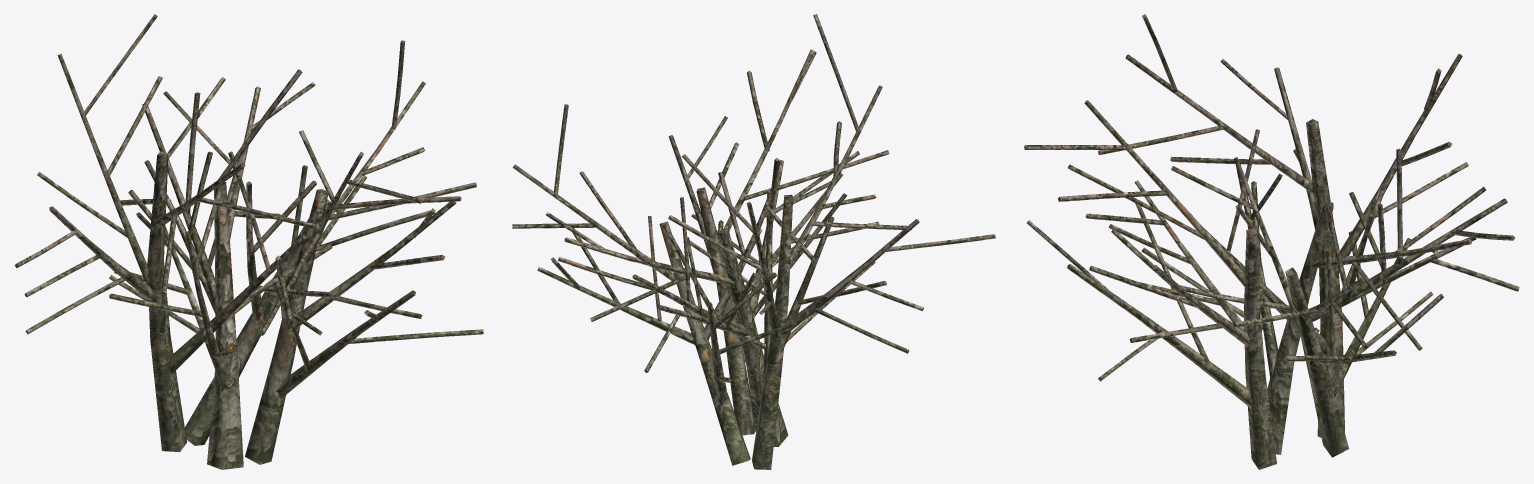
File: bush1_trunk.glb
3 views of the same model, side by side, from view 1: azimuth 30°, elevation 25°; view 2: azimuth 150°, elevation 25°; view 3: azimuth 270°, elevation 25° (orthographic). The views are drawn at different scales.
Visible parts, largest first — view 1: trunk; view 2: trunk; view 3: trunk.
Boxes of the visible parts, <box> form: trunk: <box>14,14,483,469</box>; trunk: <box>512,14,995,469</box>; trunk: <box>1024,14,1519,469</box>.
Bounding box in the file's own units: 1.6 × 1.41 × 1.43.
1 material, 1 textured.
